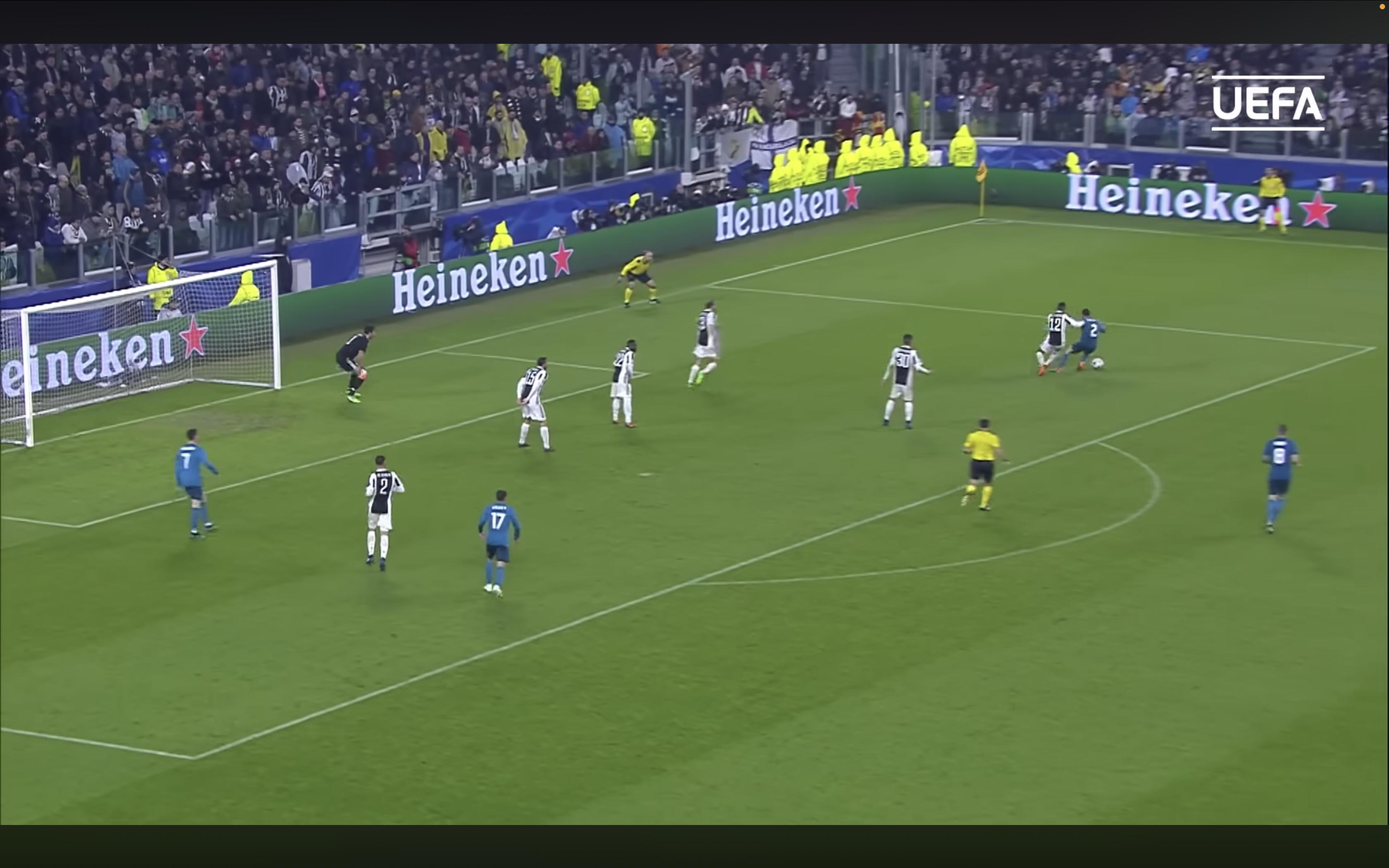ball: (1089, 358, 1105, 369)
goalkeeper: (335, 325, 374, 403)
player: (175, 429, 219, 539), (478, 491, 521, 597), (365, 455, 404, 571), (883, 334, 930, 429), (1263, 425, 1299, 533), (517, 357, 553, 452), (1036, 302, 1081, 374), (1057, 308, 1106, 371), (688, 301, 718, 386), (610, 340, 637, 428)
referee: (961, 418, 1007, 510), (619, 251, 659, 307), (1258, 168, 1287, 234)
